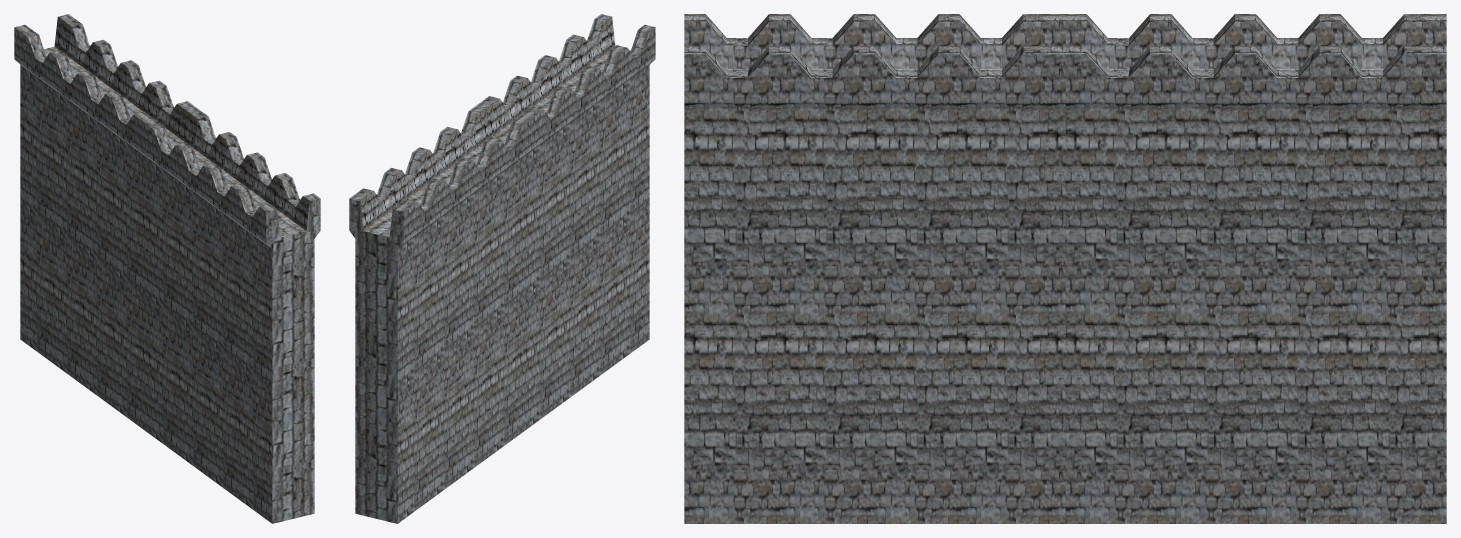
File: wall.obj
3 renders of one model, left to right at view 1: azimuth 30°, elevation 25°; view 2: azimuth 150°, elevation 25°; view 3: azimuth 270°, elevation 25°, orthographic. The views are drawn at different scales.
Visible parts, largest first — view 1: Cube; view 2: Cube; view 3: Cube.
Part boxes in pixels (left/top/right/bottom): Cube: left=14, top=14, right=320, bottom=523; Cube: left=349, top=14, right=655, bottom=523; Cube: left=684, top=14, right=1446, bottom=523.
Size of the model in its own units: 0.1109 by 0.6094 by 0.8875.
Materials: 2 (2 with a texture image).
